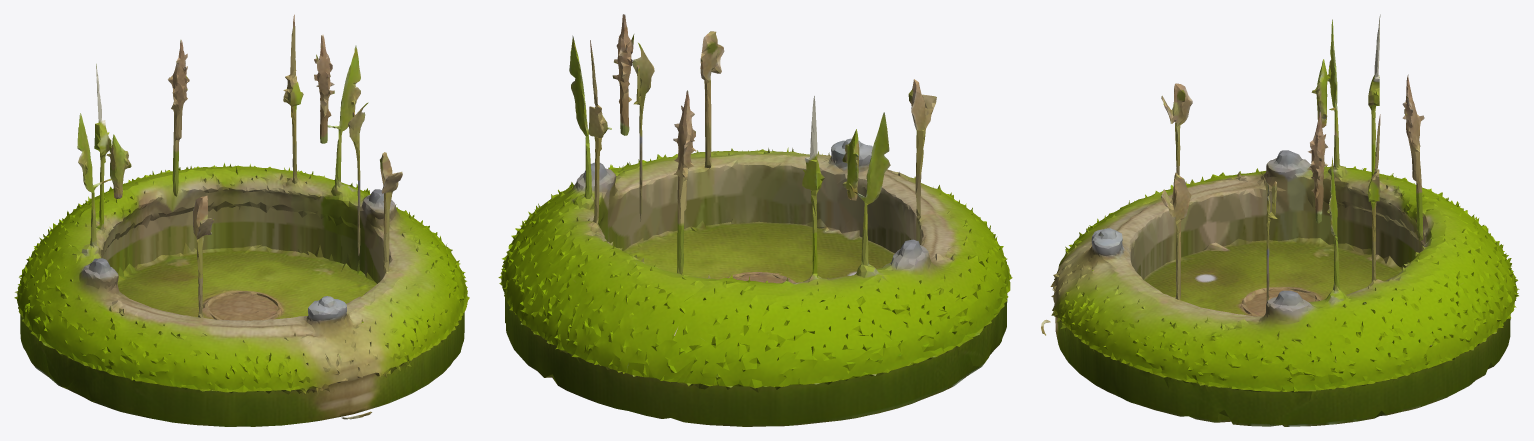
3 renders of one model, left to right at view 1: azimuth 30°, elevation 25°; view 2: azimuth 150°, elevation 25°; view 3: azimuth 270°, elevation 25°, orthographic. The views are drawn at different scales.
Parts seen in each view (by area): view 1: 035; view 2: 035; view 3: 035.
Part boxes in pixels (x1,y1,x2,y2): 035: (14,14,469,426); 035: (498,14,1012,426); 035: (1041,14,1519,426).
Size of the model in its own units: 1.86 by 1.17 by 1.89.
1 material, 1 textured.
